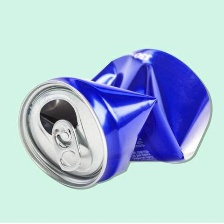can: (12, 40, 218, 191)
